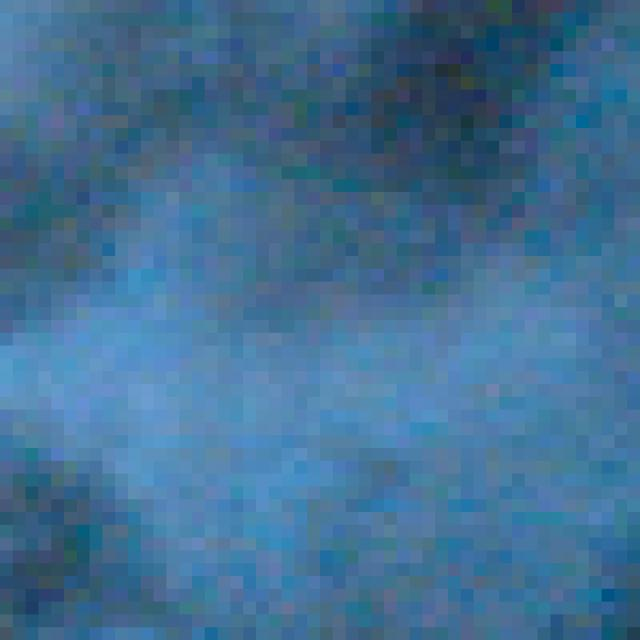no_fire: (3, 23, 640, 608)
